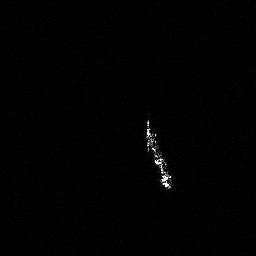ship: (142, 117, 178, 192)
